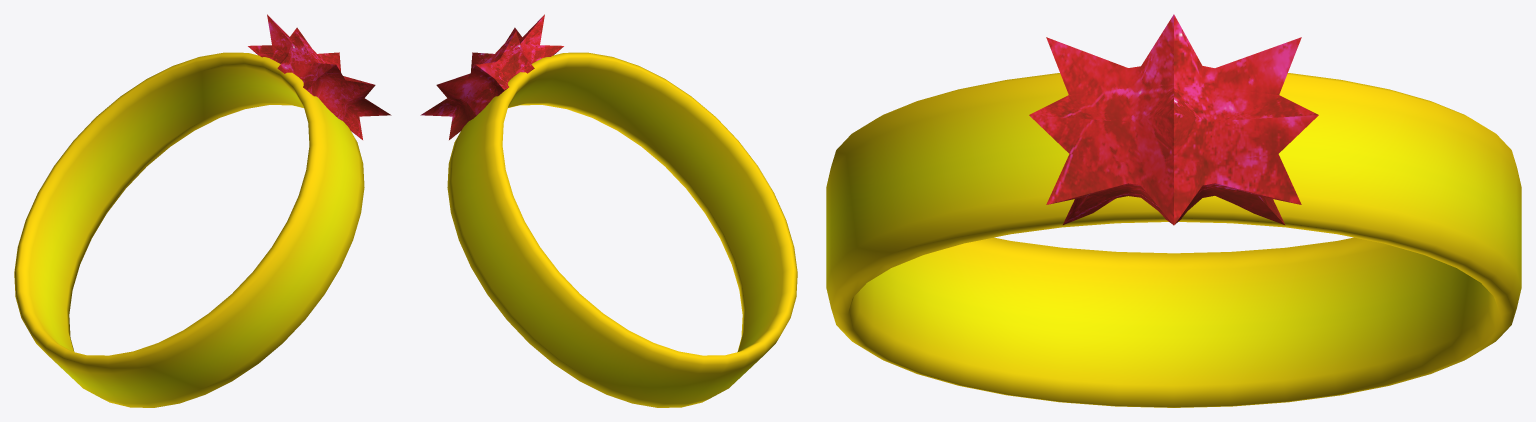
The model's file is ruby_ring.fbx.
3 views of the same model, side by side, from view 1: azimuth 30°, elevation 25°; view 2: azimuth 150°, elevation 25°; view 3: azimuth 270°, elevation 25° (orthographic). The views are drawn at different scales.
Visible parts, largest first — view 1: ring; view 2: ring; view 3: ring.
Part boxes in pixels (box(x1,y1,x2,y2)): ring: box(14, 14, 391, 407); ring: box(420, 14, 797, 407); ring: box(826, 14, 1521, 407).
Bounding box in the file's own units: 33.87 × 31.55 × 34.58.
